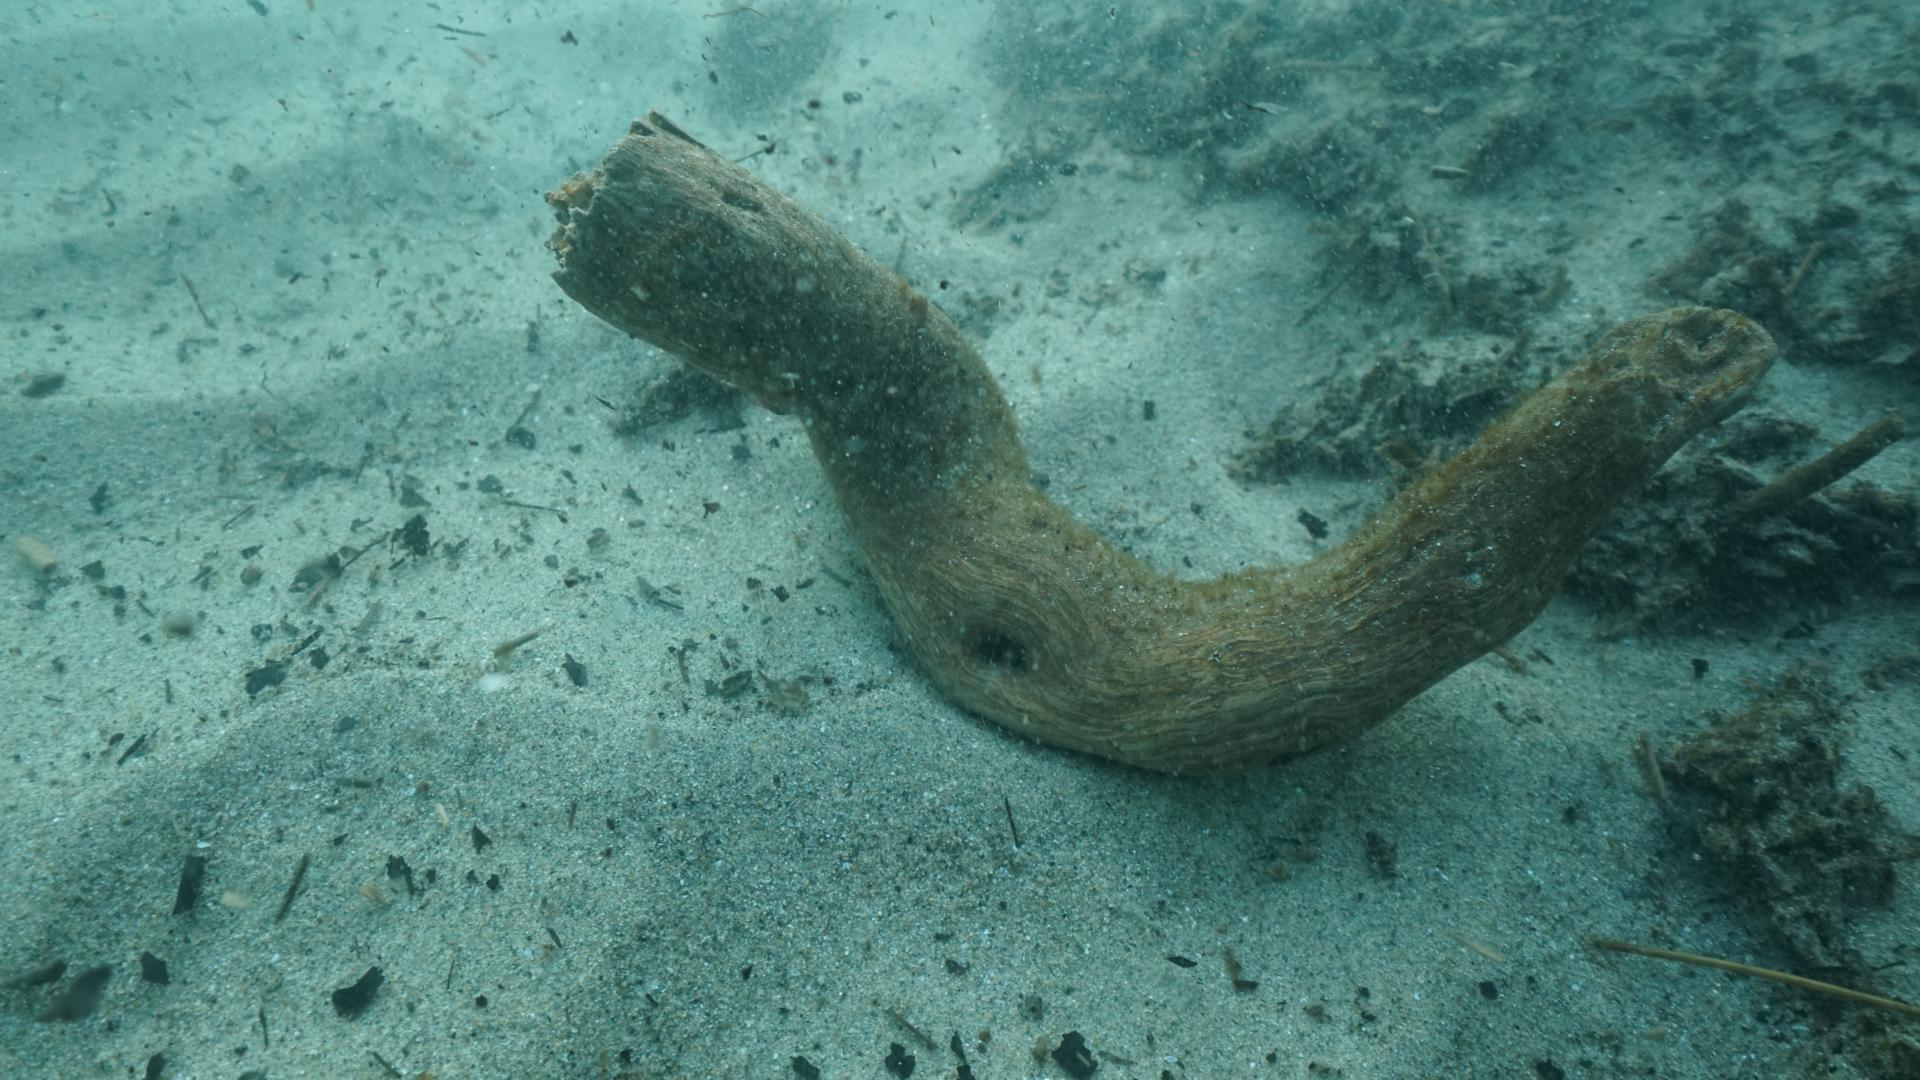wood: (539, 105, 1778, 778)
